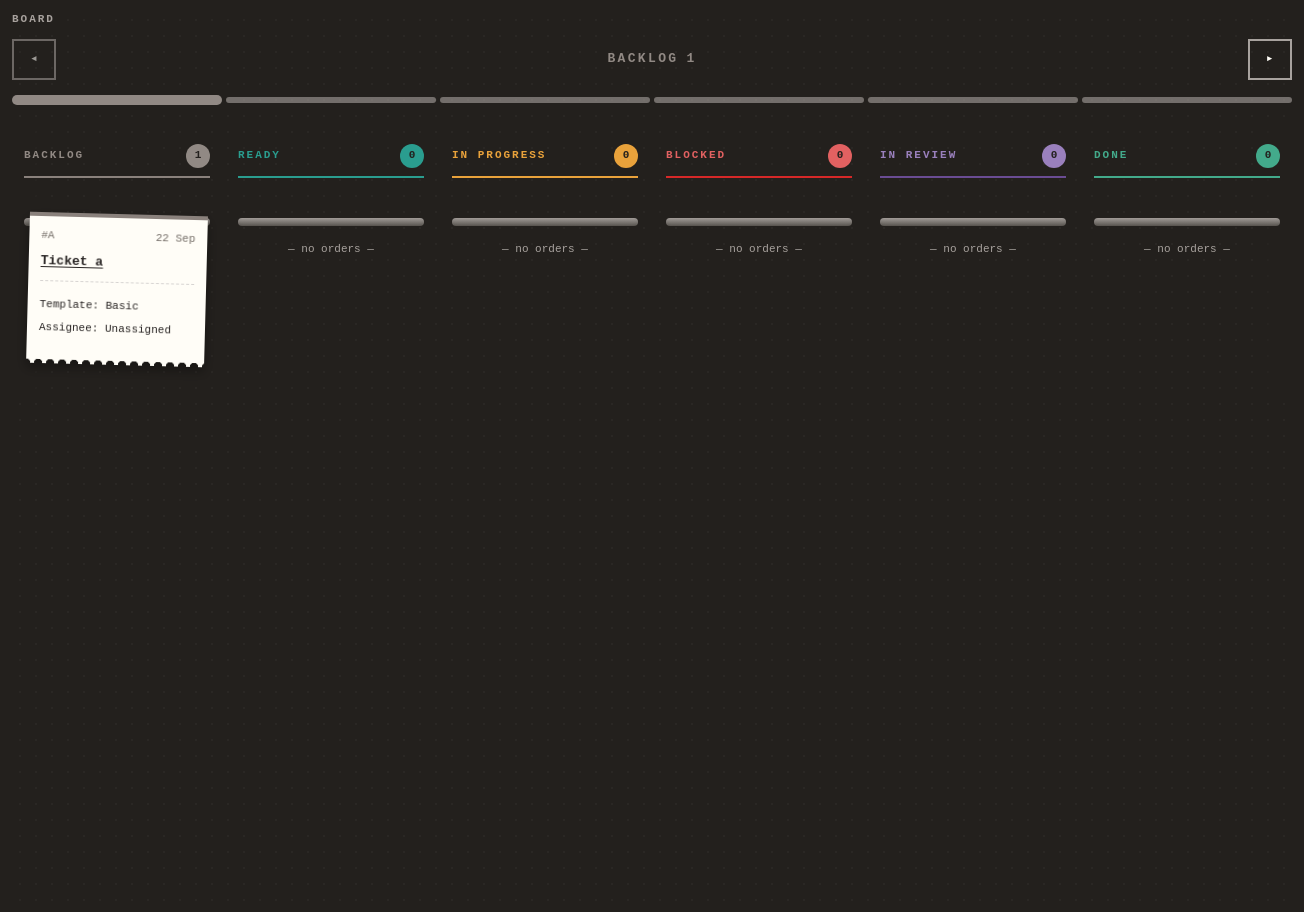
it: TicketBoard on phones › slip actions › Move stage lists the allowed targets without Done and moves through the status command
Click the button with test id "board-slip-toggle" at (117, 289), box top-left (26, 211), bottom-right (208, 367)
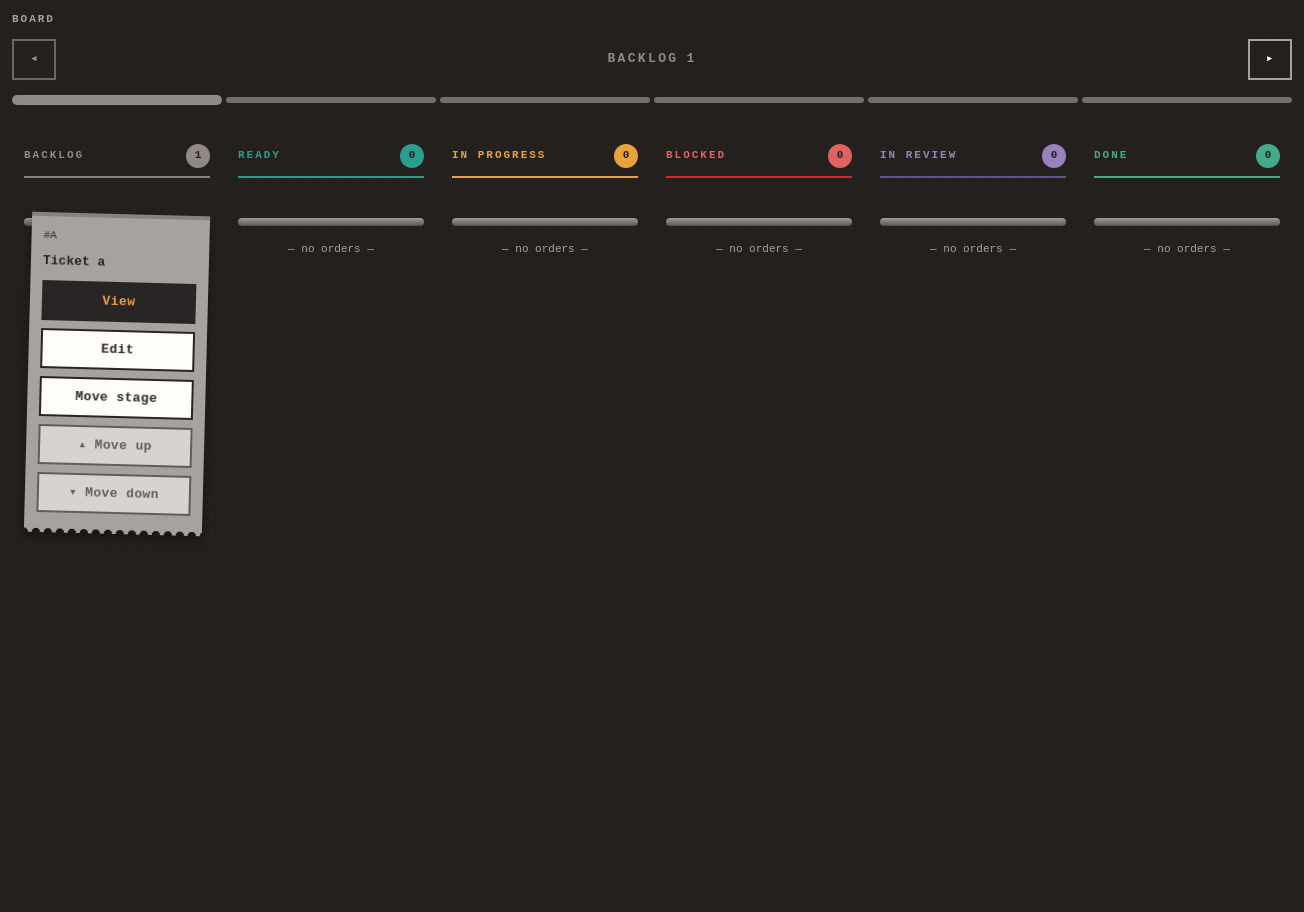
Click the button with test id "board-slip-move" at (116, 397), box top-left (39, 375), bottom-right (194, 420)
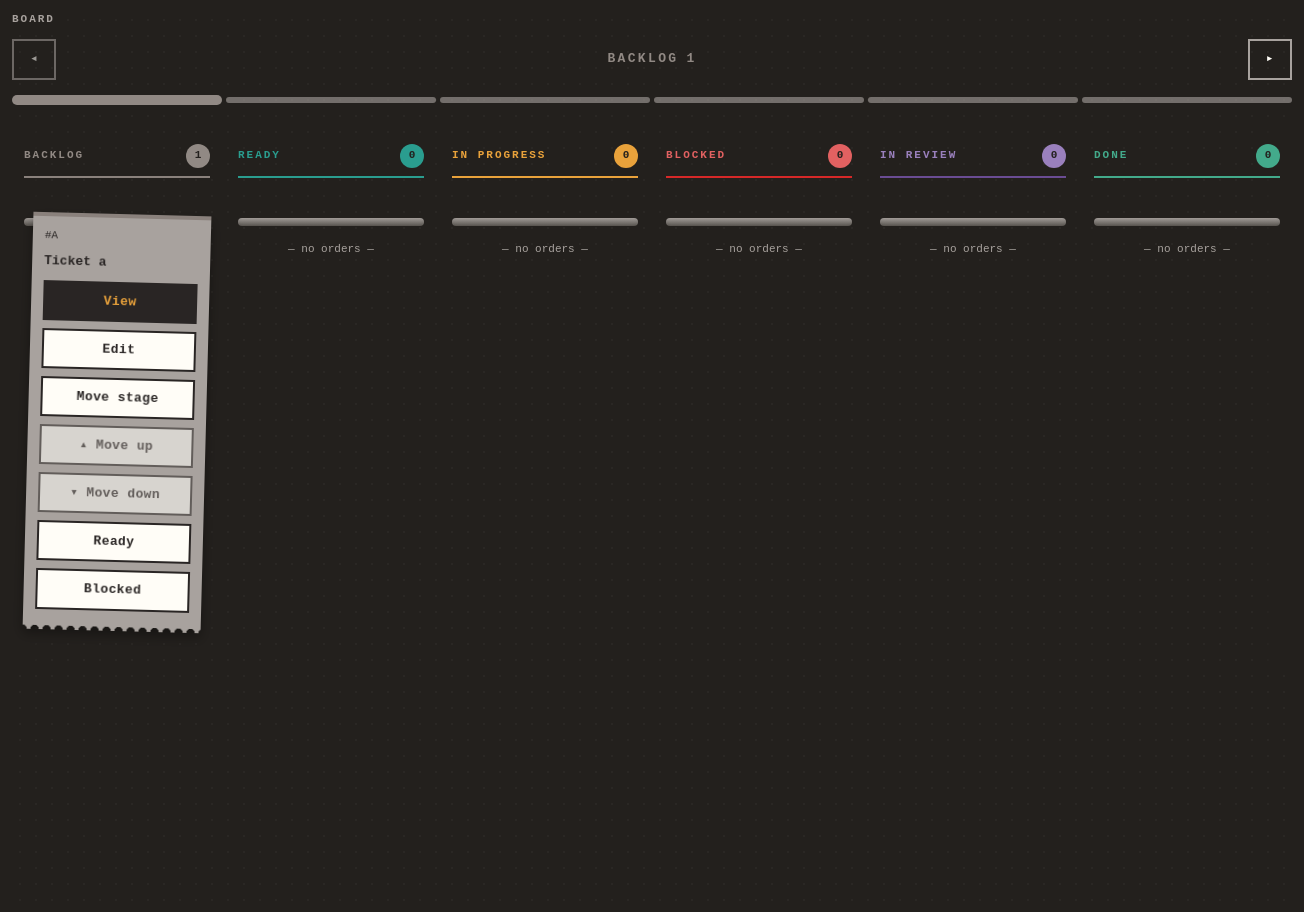
Expected: the elements with test id "^board-slip-move-" read "Ready", "Blocked", in this order
Click the button with test id "board-slip-move-Ready" at (114, 542), box top-left (36, 520), bottom-right (191, 564)
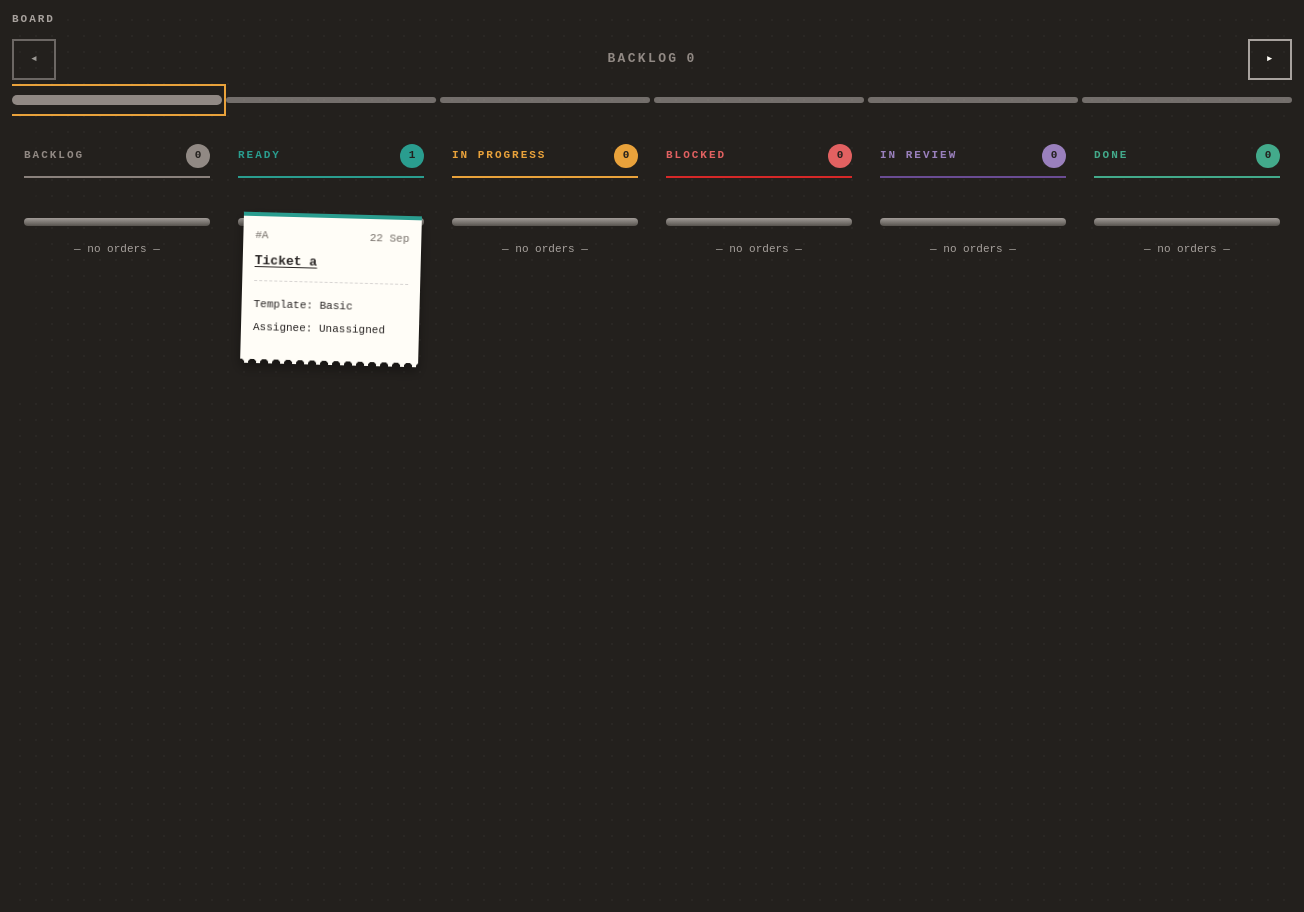
Expected: the element with test id "board-stage-current" reads "Backlog 0", top-left (607, 49), bottom-right (697, 70)
Expected: the element with test id "board-slip-actions" is gone
